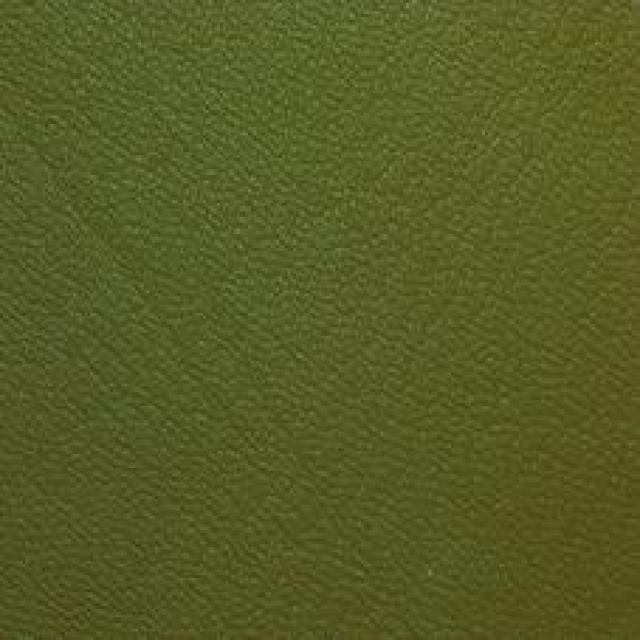Growth Marks: (11, 111, 199, 271), (118, 278, 286, 431)
